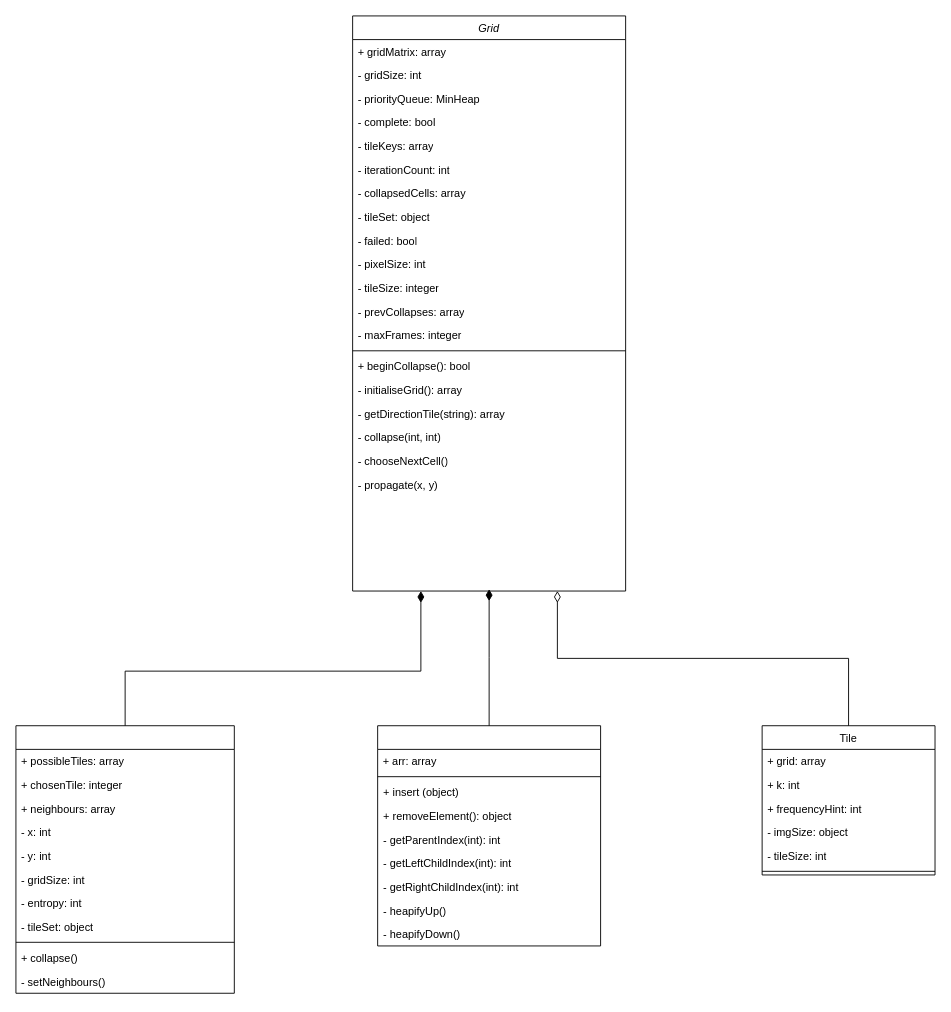
Image size: 951x1012. Some labels were removed from this diagram. Each missing label, with the box of its shape:
Cell: (15, 725, 234, 993)
MinHeap: (377, 725, 601, 946)
